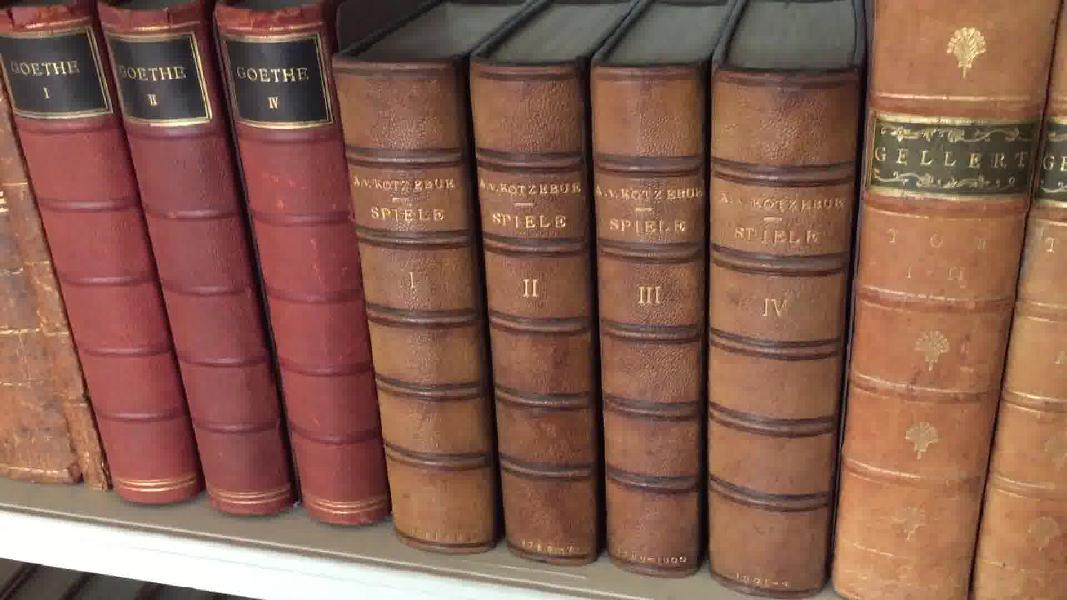Aa6-11_13: (6, 5, 409, 536)
Aa6-14_17: (323, 47, 878, 600)
